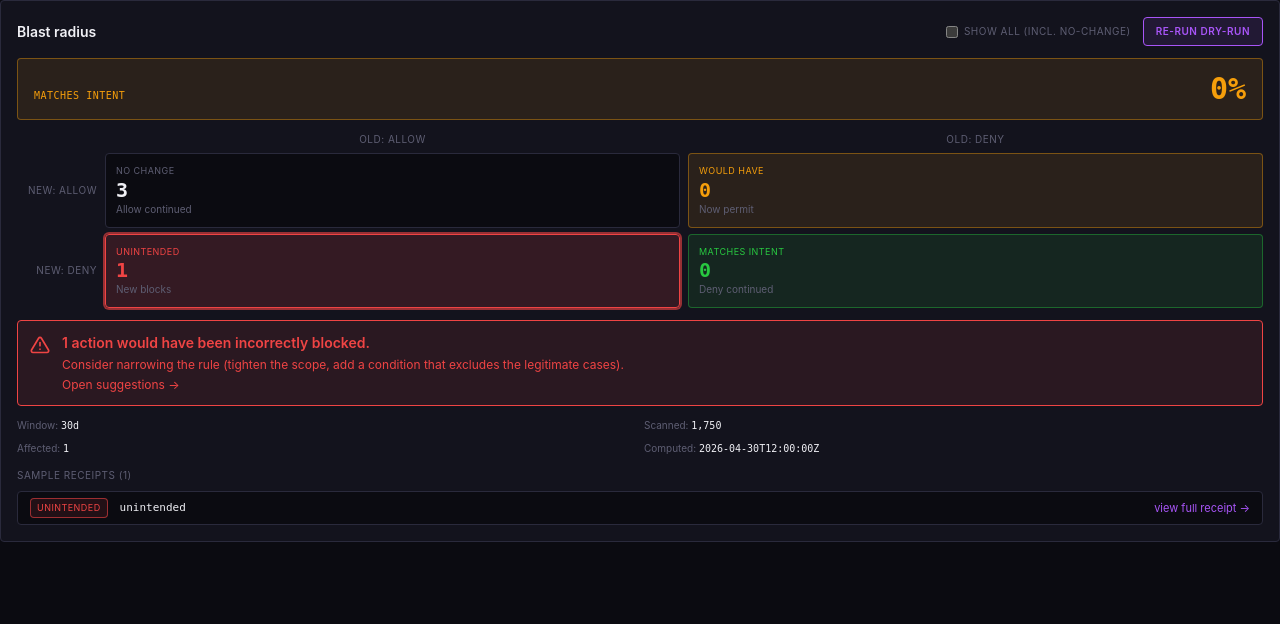
BlastRadiusPanel — FR-026 + FR-027 advisories › FR-026 (d) — show-all toggle hides no_change rows from sample list by default
Expected: the number of list items with test id "sample-receipt-unintended" is 1, x1=18 y1=492 x2=1262 y2=524
Flip the toggle — no_change rows revealed.
Click the checkbox with test id "blast-radius-show-all" at (952, 32), box x1=946 y1=26 x2=958 y2=38
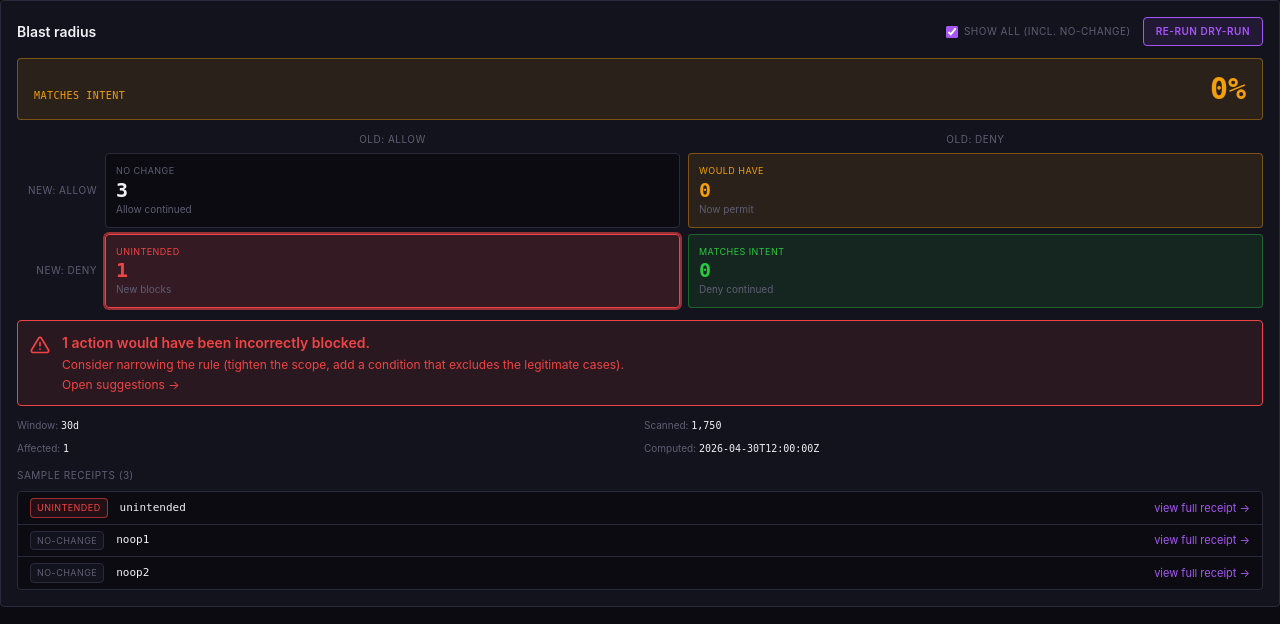
Expected: the number of list items with test id "sample-receipt-unintended" is 1, x1=18 y1=492 x2=1262 y2=524
Now the number of list items with test id "sample-receipt-no_change" is 2, box x1=18 y1=524 x2=1262 y2=556; x1=18 y1=556 x2=1262 y2=588
